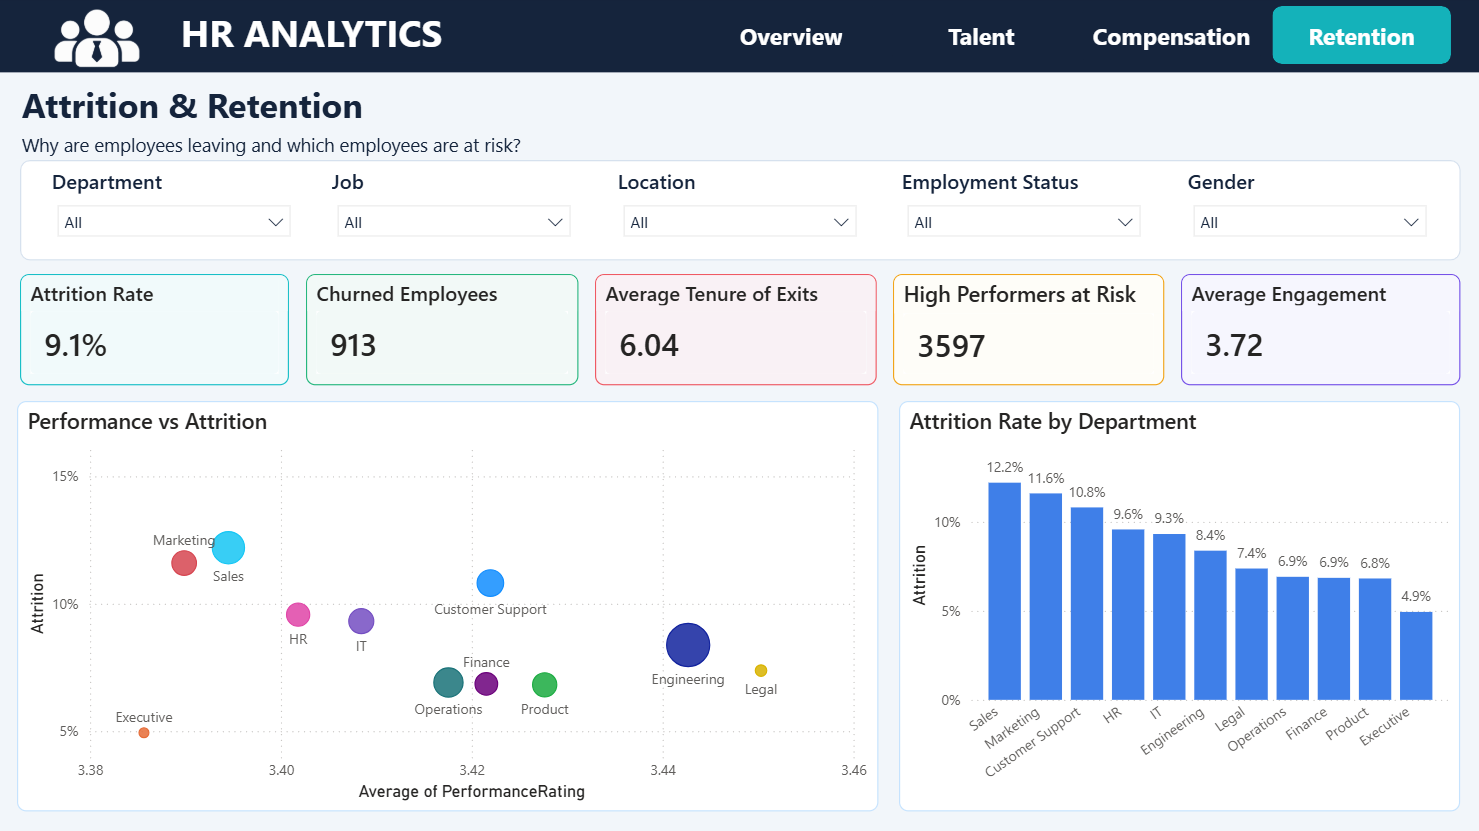

This screenshot's page, from the dashboard's own definition file:
{"tool":"powerbi","page":{"name":"Retention","canvas":[1280,720],"ordinal":3},"visuals":[{"type":"shape","box":[0,0,1280,65],"z":0},{"type":"image","box":[41.7,3.3,87.7,59.2],"z":1000},{"type":"textbox","title":"HR ANALYTICS","box":[152.5,7.7,263.2,49.4],"z":2000},{"type":"pageNavigator","box":[607.6,7.7,648.2,50.5],"z":3000},{"type":"textbox","title":"Attrition & Retention","box":[15.8,72.9,514,67.9],"z":4000},{"type":"shape","box":[18.7,140.8,1242.6,86.6],"z":5000},{"type":"slicer","title":"Department","fields":{"Values":["hr_analytics dim_departments.DepartmentName"]},"box":[41.4,146.7,221,74.8],"z":6000},{"type":"slicer","title":"Job","fields":{"Values":["hr_analytics dim_jobs.JobTitle"]},"box":[282.6,146.7,220.6,74.8],"z":7000},{"type":"slicer","title":"Location","fields":{"Values":["hr_analytics dim_locations.LocationName"]},"box":[529.7,146.7,220.6,74.8],"z":8000},{"type":"slicer","title":"Employment Status","fields":{"Values":["hr_analytics dim_employees.EmploymentStatus"]},"box":[774.9,146.7,220.6,74.8],"z":9000},{"type":"slicer","title":"Gender","fields":{"Values":["hr_analytics dim_employee_demographics.GenderIdentity"]},"box":[1021,146.7,220.6,74.8],"z":10000},{"type":"cardVisual","title":"Attrition Rate","fields":{"Data":["MeasuresTable.Attrition"]},"box":[18.7,239.3,232.4,95.5],"z":11000},{"type":"cardVisual","title":"Churned Employees","fields":{"Data":["MeasuresTable.Churned Employees"]},"box":[265.8,239.3,235.3,95.5],"z":11001},{"type":"cardVisual","title":"Average Tenure of Exits","fields":{"Data":["MeasuresTable.Average Tenure of Exits"]},"box":[515,239.3,243.2,95.5],"z":11002},{"type":"cardVisual","title":"High Performers at Risk","fields":{"Data":["MeasuresTable.High Performers at Risk"]},"box":[771.9,239.3,234.3,95.5],"z":11003},{"type":"cardVisual","title":"Average Engagement","fields":{"Data":["MeasuresTable.Average Engagement"]},"box":[1020.1,239.3,241.2,95.5],"z":11004},{"type":"clusteredColumnChart","title":"Attrition Rate by Department","fields":{"Category":["hr_analytics dim_departments.DepartmentName"],"Y":["MeasuresTable.Attrition"]},"box":[777.5,348.8,483.8,353.8],"z":11005},{"type":"scatterChart","title":"Performance vs Attrition","fields":{"X":["Avg(hr_analytics fact_performance_reviews.PerformanceRating)"],"Y":["MeasuresTable.Attrition"],"Series":["hr_analytics dim_departments.DepartmentName"],"Size":["MeasuresTable.Headcount"]},"box":[16.2,348.8,742.5,353.8],"z":11006}]}

Visuals, with their boxes in screenshot pixels (x1, y1, x2, y2), scaled from the page's 1280x720 canvas onto the 1479x831 screenshot:
shape: box=[0, 0, 1478, 75]
image: box=[48, 4, 150, 72]
"HR ANALYTICS" textbox: box=[176, 9, 480, 66]
pageNavigator: box=[702, 9, 1451, 67]
"Attrition & Retention" textbox: box=[18, 84, 612, 163]
shape: box=[22, 163, 1457, 262]
"Department" slicer: box=[48, 169, 303, 256]
"Job" slicer: box=[327, 169, 581, 256]
"Location" slicer: box=[612, 169, 867, 256]
"Employment Status" slicer: box=[895, 169, 1150, 256]
"Gender" slicer: box=[1180, 169, 1435, 256]
"Attrition Rate" cardVisual: box=[22, 276, 290, 386]
"Churned Employees" cardVisual: box=[307, 276, 579, 386]
"Average Tenure of Exits" cardVisual: box=[595, 276, 876, 386]
"High Performers at Risk" cardVisual: box=[892, 276, 1163, 386]
"Average Engagement" cardVisual: box=[1179, 276, 1457, 386]
"Attrition Rate by Department" clusteredColumnChart: box=[898, 403, 1457, 811]
"Performance vs Attrition" scatterChart: box=[19, 403, 877, 811]
